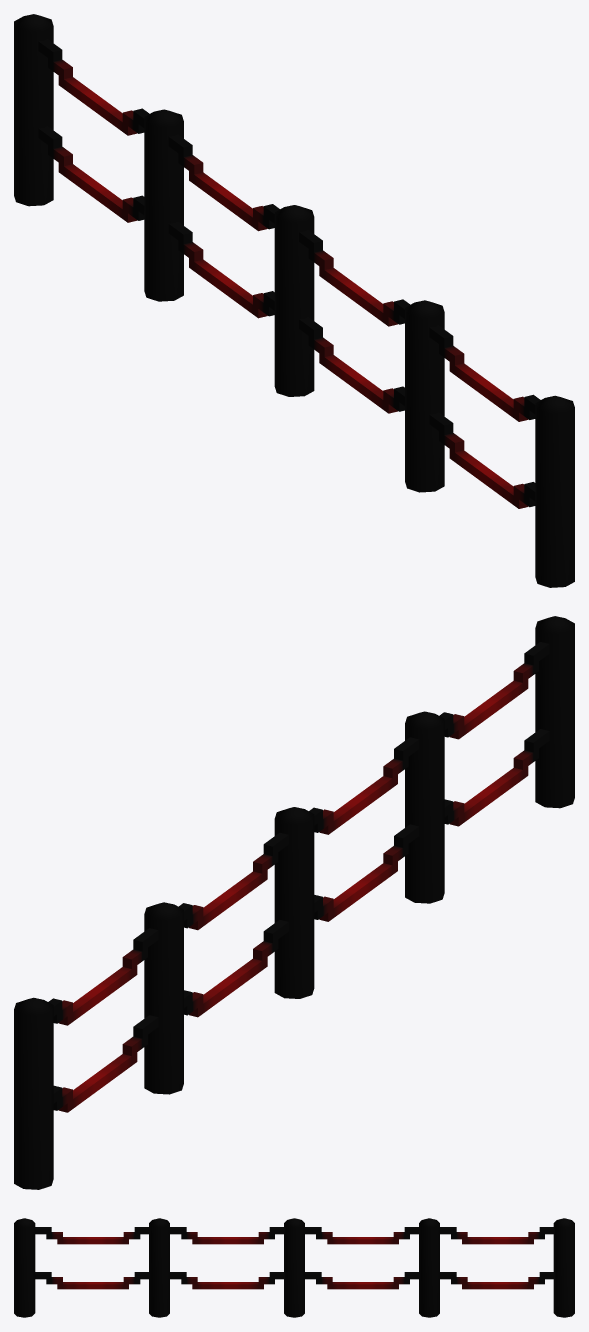
File: Co_BPI_Fence_Rope_A_400.gltf
3 views of the same model, one above another, from view 1: azimuth 30°, elevation 25°; view 2: azimuth 150°, elevation 25°; view 3: azimuth 270°, elevation 25° (orthographic). The views are drawn at different scales.
Visible parts, largest first — view 1: Co_BPI_Fence_Rope_A_400; view 2: Co_BPI_Fence_Rope_A_400; view 3: Co_BPI_Fence_Rope_A_400.
Boxes of the visible parts, <box> form: Co_BPI_Fence_Rope_A_400: <box>14,14,574,587</box>; Co_BPI_Fence_Rope_A_400: <box>14,616,574,1189</box>; Co_BPI_Fence_Rope_A_400: <box>14,1218,574,1317</box>.
Size of the model in its own units: 0.24 by 1.19 by 6.34.
